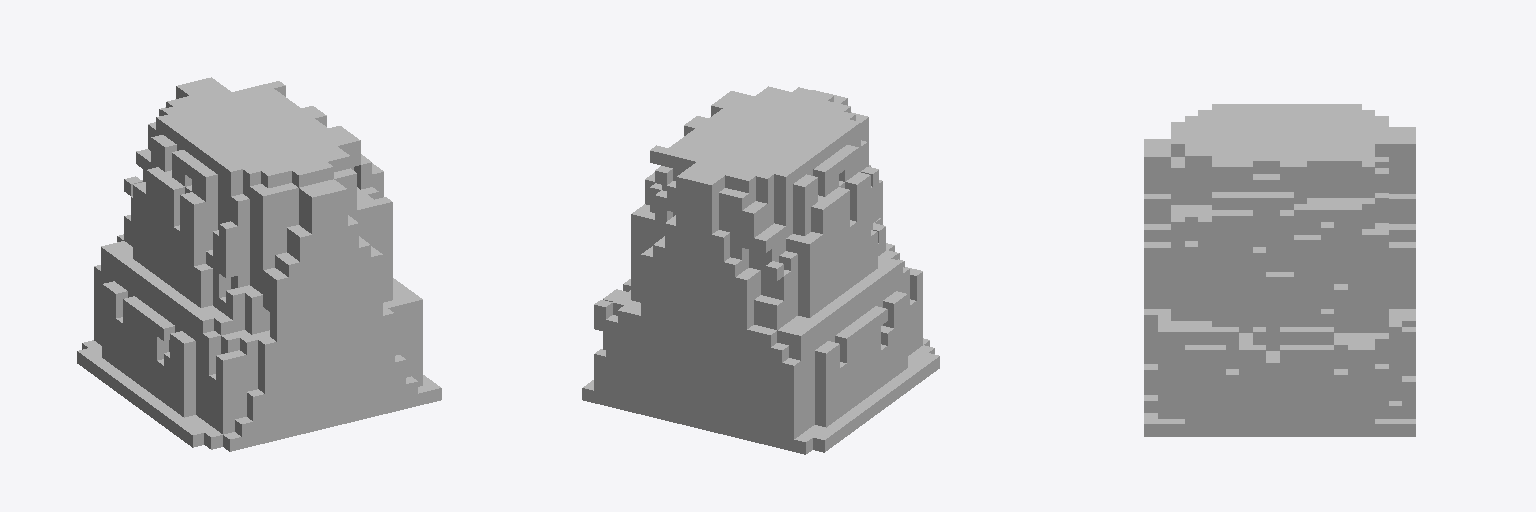
File: bob-the-blob_1.obj
3 renders of one model, left to right at view 1: azimuth 30°, elevation 25°; view 2: azimuth 150°, elevation 25°; view 3: azimuth 270°, elevation 25°, orthographic.
Parts seen in each view (by area): view 1: bob-the-blob_1; view 2: bob-the-blob_1; view 3: bob-the-blob_1.
Part boxes in pixels (left/top/right/bottom): bob-the-blob_1: left=77, top=77, right=441, bottom=451; bob-the-blob_1: left=582, top=86, right=939, bottom=454; bob-the-blob_1: left=1144, top=104, right=1415, bottom=436.
Bounding box in the file's own units: 2 × 2 × 2.